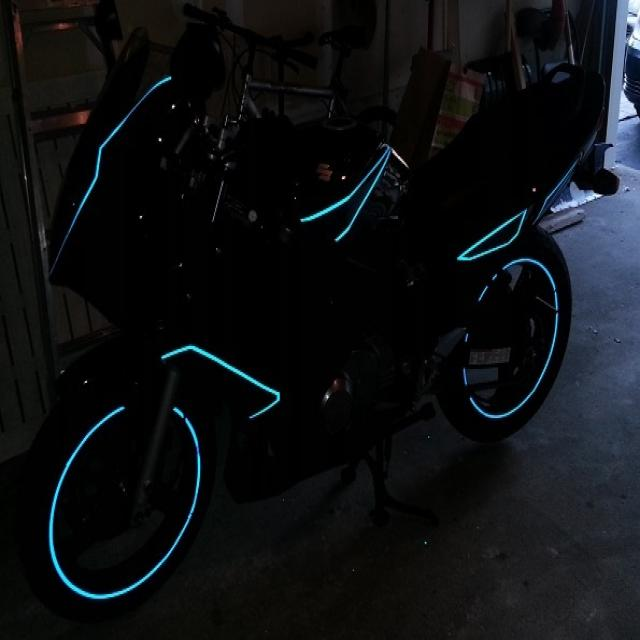Motorbike: (52, 33, 598, 622)
